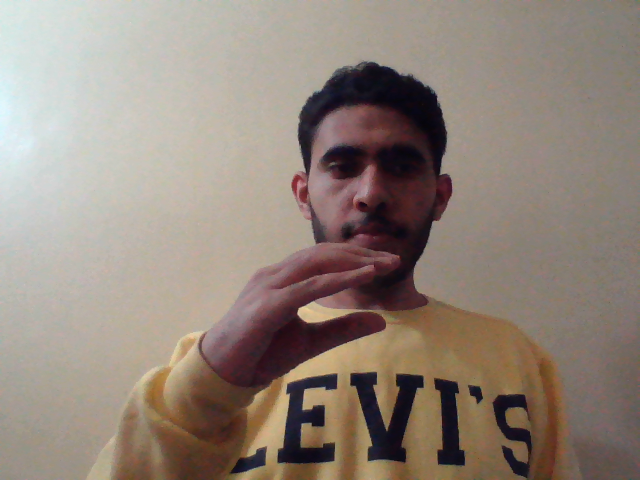C: (194, 237, 397, 397)
